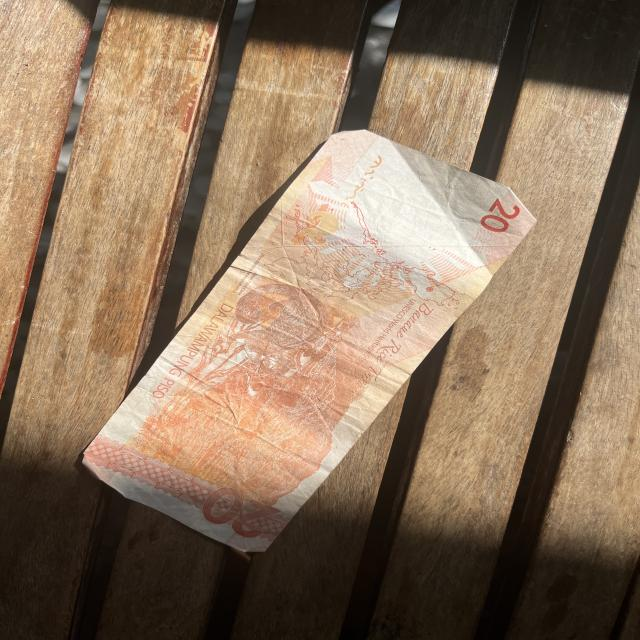20_civet: (234, 280, 324, 368)
20_civet_watermark: (294, 208, 341, 248)
